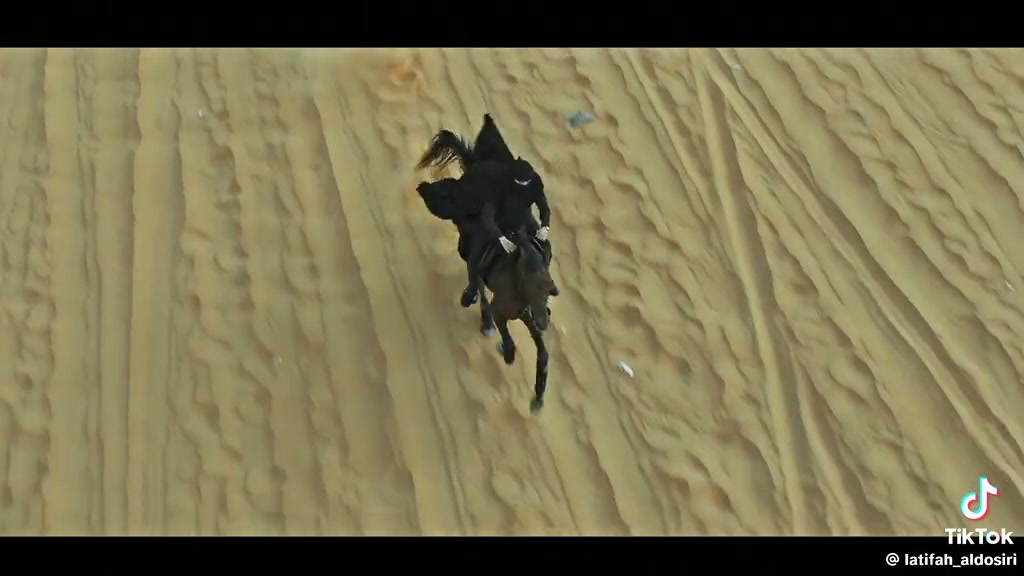animal: (478, 229, 554, 413)
vehicle_track: (757, 52, 1023, 495), (281, 73, 469, 538), (684, 61, 839, 536), (119, 56, 210, 538), (41, 59, 110, 532)
